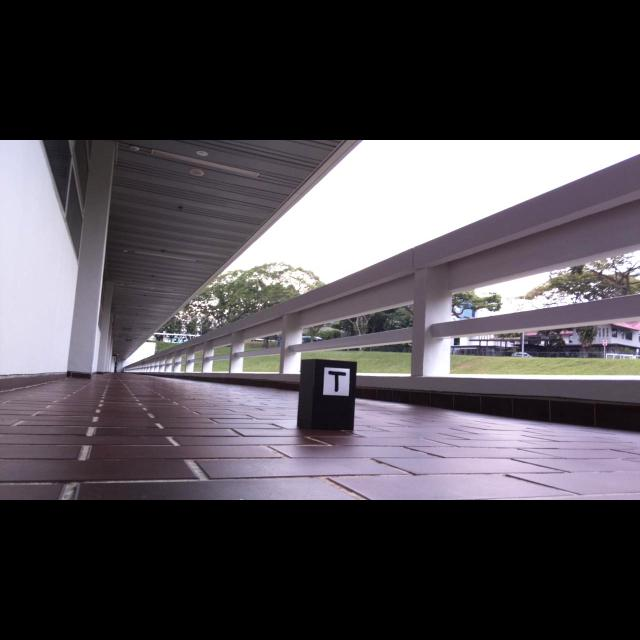T: (328, 371, 346, 392)
